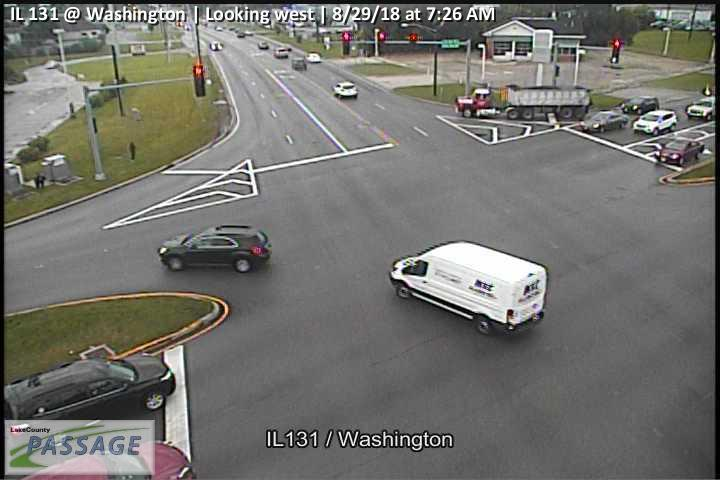SUV: (2, 353, 179, 446), (632, 109, 678, 133)
Sedan: (158, 222, 273, 273), (579, 110, 629, 134), (621, 94, 660, 116), (333, 81, 358, 98), (290, 56, 306, 70), (272, 47, 289, 58), (307, 51, 321, 63)
Truck: (388, 240, 549, 334), (454, 84, 592, 118), (658, 136, 706, 166)
